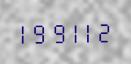nine: (33, 20, 48, 44), (50, 20, 65, 44)
one: (17, 20, 32, 44), (66, 19, 81, 43), (82, 19, 97, 43)
two: (98, 19, 113, 43)
